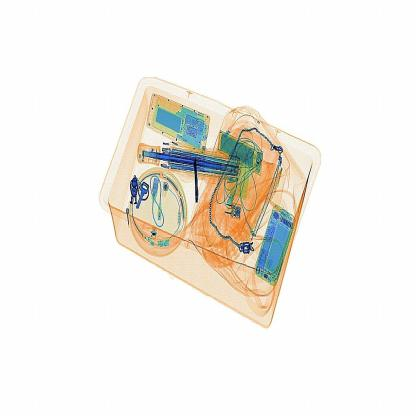knife: (184, 153, 212, 215)
